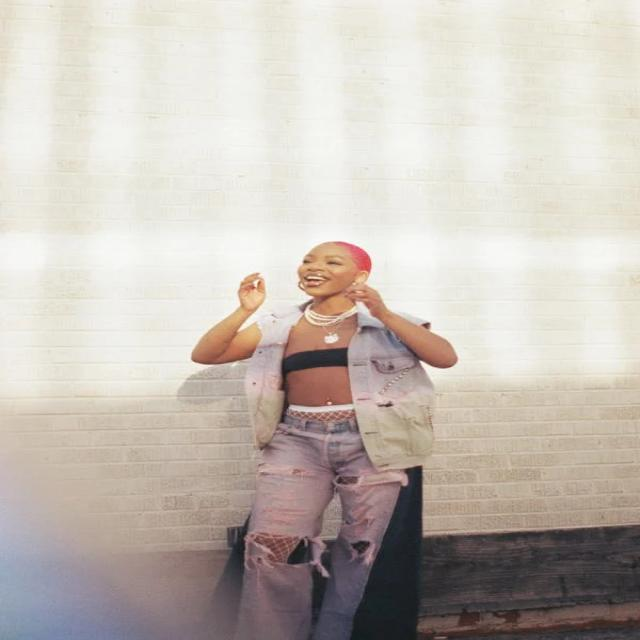Real human 2: (171, 233, 475, 640)
